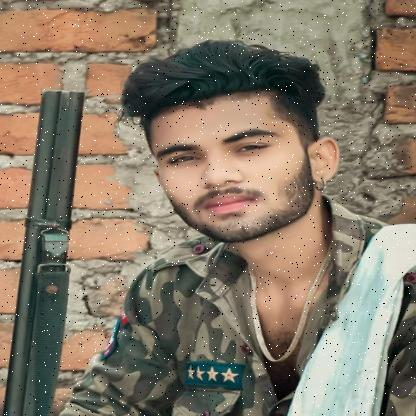rifle: (0, 88, 90, 416)
